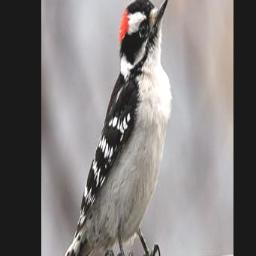Woodpecker: (61, 0, 173, 256)
